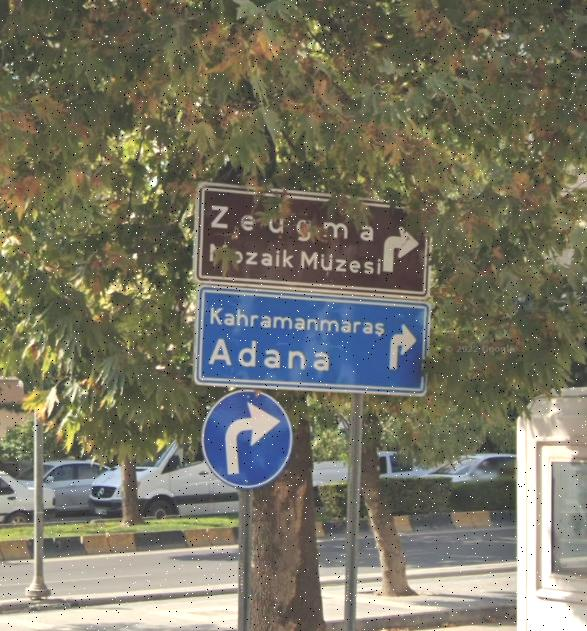turnright: (208, 395, 287, 485)
